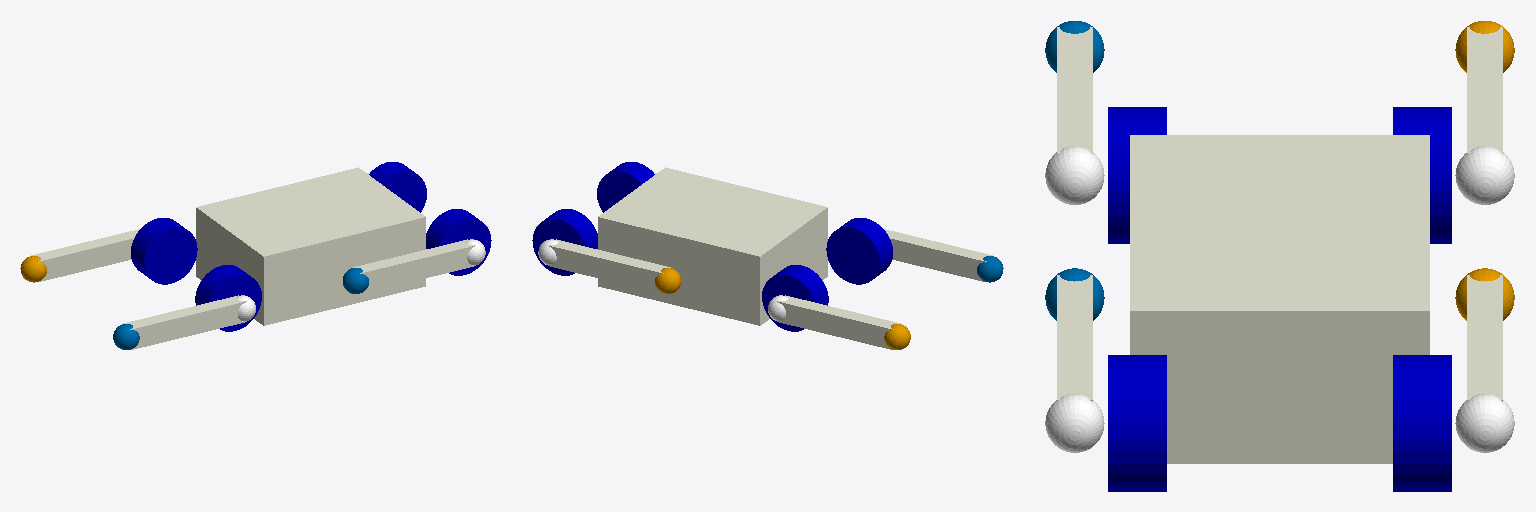
--- Facts derived from the render (not from the file) ---
Views: 3 orthographic renders of the robot side by side, from view 1: azimuth 30°, elevation 25°; view 2: azimuth 150°, elevation 25°; view 3: azimuth 270°, elevation 25°.
Model wr2 with 19 links and 18 joints (12 revolute, 6 fixed), rooted at base, posed all joints at 0.
Visible links, largest first — view 1: trunk, RR_thigh, FR_thigh, RL_hip, RL_thigh, RR_hip, FR_hip, FL_hip; view 2: trunk, RL_thigh, FL_thigh, RR_hip, RR_thigh, RL_hip, FL_hip, FR_hip; view 3: trunk, FR_hip, FL_hip, FR_thigh, FL_thigh, RR_thigh, RL_thigh, RR_hip, RL_hip, FR_foot, FL_foot, RR_foot (+1 smaller).
Boxes of the visible links, x1=… form: trunk: x1=196, y1=167, x2=425, y2=325; RR_thigh: x1=113, y1=295, x2=246, y2=349; FR_thigh: x1=343, y1=239, x2=475, y2=293; RL_hip: x1=131, y1=218, x2=197, y2=284; RL_thigh: x1=20, y1=229, x2=139, y2=282; RR_hip: x1=195, y1=265, x2=261, y2=331; FR_hip: x1=426, y1=209, x2=491, y2=275; FL_hip: x1=369, y1=162, x2=426, y2=212; trunk: x1=598, y1=167, x2=827, y2=325; RL_thigh: x1=777, y1=295, x2=910, y2=349; FL_thigh: x1=548, y1=239, x2=680, y2=293; RR_hip: x1=826, y1=218, x2=892, y2=284; RR_thigh: x1=884, y1=229, x2=1003, y2=282; RL_hip: x1=762, y1=265, x2=828, y2=331; FL_hip: x1=532, y1=209, x2=597, y2=275; FR_hip: x1=597, y1=162, x2=654, y2=212; trunk: x1=1130, y1=135, x2=1429, y2=463; FR_hip: x1=1108, y1=355, x2=1166, y2=491; FL_hip: x1=1393, y1=355, x2=1451, y2=491; FR_thigh: x1=1045, y1=268, x2=1104, y2=401; FL_thigh: x1=1455, y1=268, x2=1514, y2=401; RR_thigh: x1=1045, y1=21, x2=1104, y2=153; RL_thigh: x1=1455, y1=21, x2=1514, y2=153; RR_hip: x1=1108, y1=107, x2=1166, y2=243; RL_hip: x1=1393, y1=107, x2=1451, y2=243; FR_foot: x1=1045, y1=394, x2=1104, y2=452; FL_foot: x1=1455, y1=394, x2=1514, y2=452; RR_foot: x1=1045, y1=146, x2=1104, y2=204.
Size in the robot's own frame: 0.661 by 0.3164 by 0.114 metres.
Geometry: primitives only (box / cylinder / sphere), no mesh files.

robot.urdf — wr2:
<?xml version="1.0" encoding="utf-8"?>
<!-- =================================================================================== -->
<!-- |    This document was autogenerated by xacro from xacro/robot.xacro              | -->
<!-- |    EDITING THIS FILE BY HAND IS NOT RECOMMENDED                                 | -->
<!-- =================================================================================== -->
<robot name="wr2">
  <material name="black">
    <color rgba="0.0 0.0 0.0 1.0"/>
  </material>
  <material name="blue">
    <color rgba="0.0 0.0 0.8 1.0"/>
  </material>
  <material name="green">
    <color rgba="0.0 0.8 0.0 1.0"/>
  </material>
  <material name="grey">
    <color rgba="0.2 0.2 0.2 1.0"/>
  </material>
  <material name="silver">
    <color rgba="0.913725490196 0.913725490196 0.847058823529 1.0"/>
  </material>
  <material name="orange">
    <color rgba="1.0 0.423529411765 0.0392156862745 1.0"/>
  </material>
  <material name="brown">
    <color rgba="0.870588235294 0.811764705882 0.764705882353 1.0"/>
  </material>
  <material name="red">
    <color rgba="0.8 0.0 0.0 1.0"/>
  </material>
  <material name="white">
    <color rgba="1.0 1.0 1.0 1.0"/>
  </material>
 
  <link name="base">
    <visual>
      <origin rpy="0 0 0" xyz="0 0 0"/>
      <geometry>
        <box size="0.001 0.001 0.001"/>
      </geometry>
    </visual>
  </link>
  <joint name="floating_base" type="fixed">
    <origin rpy="0 0 0" xyz="0 0 0"/>
    <parent link="base"/>
    <child link="trunk"/>
  </joint>
  <link name="trunk">
    <visual name="body_visual">
      <origin rpy="0 0 0" xyz="0 0 0"/>
      <geometry>
        <!-- <mesh filename="meshes/base_link.STL" scale="1 1 1"/> -->
        <box size="0.28 0.202 0.114"/>
      </geometry>
      <material name="silver"/>
    </visual>
    <collision name="body_collision">
      <origin rpy="0 0 0" xyz="0 0 0"/>
      <geometry>
        <!-- <mesh filename="meshes/base_link.STL" scale="1 1 1"/> -->
        <box size="0.28 0.202 0.114"/>
      </geometry>
    </collision>
    <inertial>
      <origin rpy="0 0 0" xyz="0.00067578 -0.00016652 -0.00017278"/>
      <mass value="4.9532"/>
      <inertia ixx="0.0097737" ixy="1.6081e-06" ixz="6.1042e-06" iyy="0.011213" iyz="2.3576e-05" izz="0.016784"/>
    </inertial>
  </link>
 
  <!-- <link name="base">
    <visual>
      <origin rpy="0 0 0" xyz="0 0 0"/>
      <geometry>
        <box size="0.001 0.001 0.001"/>
      </geometry>
    </visual>
    <inertial>
      <origin rpy="0 0 0" xyz="0.00067578 -0.00016652 -0.00017278"/>
      <mass value="4.9532"/>
      <inertia ixx="0.0097737" ixy="1.6081e-06" ixz="6.1042e-06" iyy="0.011213" iyz="2.3576e-05" izz="0.016784"/>
    </inertial>
  </link>
  <joint name="floating_base" type="fixed">
    <origin rpy="0 0 0" xyz="0 0 0"/>
    <parent link="base"/>
    <child link="trunk"/>
  </joint>
  <link name="trunk">
    <visual name="body_visual">
      <origin rpy="0 0 0" xyz="0 0 0"/>
      <geometry>
        <mesh filename="meshes/base_link.STL" scale="1 1 1"/>
      </geometry>
      <material name="silver"/>
      <origin rpy="0 0 0" xyz="0 0 0"/>
      <geometry>
        <box size="0.28 0.202 0.114"/>
      </geometry>
    </visual>
    <collision name="body_collision">
      <origin rpy="0 0 0" xyz="0 0 0"/>
      <geometry>
        <box size="0.28 0.202 0.114"/>
      </geometry>
    </collision>
  </link> -->
  <joint name="imu_joint" type="fixed">
    <parent link="trunk"/>
    <child link="imu_link"/>
    <origin rpy="0 0 0" xyz="0 0 0"/>
  </joint>
  <link name="imu_link">
    <inertial>
      <mass value="0.001"/>
      <origin rpy="0 0 0" xyz="0 0 0"/>
      <inertia ixx="0.0001" ixy="0" ixz="0" iyy="0.0001" iyz="0" izz="0.0001"/>
    </inertial>
    <visual>
      <origin rpy="0 0 0" xyz="0 0 0"/>
      <geometry>
        <box size="0.001 0.001 0.001"/>
      </geometry>
      <material name="red"/>
    </visual>
    <collision>
      <origin rpy="0 0 0" xyz="0 0 0"/>
      <geometry>
        <box size=".001 .001 .001"/>
      </geometry>
    </collision>
  </link>

  <joint name="FR_hip_joint" type="revolute">
    <origin rpy="0 0 0" xyz="0.1975 -0.05 0"/>
    <parent link="trunk"/>
    <child link="FR_hip"/>
    <axis xyz="1 0 0"/>
    <dynamics damping="0" friction="0"/>
    <limit effort="33.5" lower="-0.785398163397" upper="0.785398163397" velocity="21"/>
  </joint>
  <!-- <link name="FR_hip">
      <inertial>
          <mass value="0.54"/>
          <origin xyz="0.0 0.036 0."/>
          <inertia ixx="0.000381" ixy="0.000058" ixz="0.00000045" 
              iyy="0.000560" iyz="0.00000095" izz="0.000444"/>
      </inertial>
      <visual>
          <geometry>
              <mesh filename="meshes/mini_abad.obj"/>
          </geometry>
          <origin rpy="3.141592 0.0 1.5708" xyz="-0.055 0.0 0.0"/>
      </visual>
      <collision>
          <geometry>
              <mesh filename="meshes/mini_abad.obj"/>
          </geometry>
          <origin rpy="3.141592 0 1.5708" xyz="-0.055 0 0"/>
      </collision>
  </link> -->

  <!-- <link name="FR_hip">
    <visual>
      <origin rpy="1.57079632679 0 0" xyz="0 -0.045 0"/>
      <geometry>
        <cylinder length="0.04" radius="0.046"/>
      </geometry>
      <material name="silver"/>
    </visual>
    <collision>
      <origin rpy="1.57079632679 0 0" xyz="0 -0.045 0"/>
      <geometry>
        <cylinder length="0.04" radius="0.046"/>
      </geometry>
    </collision>
    <inertial>
      <origin rpy="0 0 0" xyz="-0.00541 0.00074 6e-06"/>
      <mass value="0.510299"/>
      <inertia ixx="0.00030528937" ixy="7.788013e-06" ixz="2.2016e-07" iyy="0.000590894859" iyz="1.7175e-08" izz="0.000396594572"/>
    </inertial>
  </link> -->

  <link name="FR_hip">
    <visual name="hip2_visual">
      <!-- <origin rpy="3.14159265359 0 0" xyz="0 0 0"/>
      <geometry>
        <mesh filename="meshes/hip1_Link.STL" scale="1 1 1"/>
      </geometry> -->
      <origin rpy="1.57079632679 0 0" xyz="0 -0.046 0"/>
      <geometry>
        <cylinder length="0.04" radius="0.046"/>
      </geometry>
      <material name="blue"/>
    </visual>
    <collision name="hip2_collision">
      <origin rpy="1.57079632679 0 0" xyz="0 -0.046 0"/>
      <geometry>
        <cylinder length="0.04" radius="0.046"/>
      </geometry>
    </collision>
    <inertial>
      <mass value="0.54"/>
      <origin xyz="0.0 0.036 0."/>
      <inertia ixx="0.000381" ixy="0.000058" ixz="0.00000045" 
          iyy="0.000560" iyz="0.00000095" izz="0.000444"/>
      <origin rpy="0 0 0" xyz="-0.0032616 -0.0049715 0.00038471"/>
      <mass value="0.74362"/>
      <inertia ixx="0.00045939" ixy="1.5543e-05" ixz="6.1403e-07" iyy="0.00075207" iyz="-8.2076e-07" izz="0.00049182"/>
    </inertial>
  </link>
  <joint name="FR_thigh_joint" type="revolute">
    <origin rpy="0 1.57079632679 0" xyz="0 -0.0882 0"/>
    <parent link="FR_hip"/>
    <child link="FR_thigh"/>
    <axis xyz="0 -1 0"/>
    <dynamics damping="0" friction="0"/>
    <limit effort="33.5" lower="-6.28318530718" upper="6.28318530718" velocity="21"/>
  </joint>
  <link name="FR_thigh">
    <visual name="upper2_visual">
      <!-- <origin rpy="0 0 0" xyz="0 0 0"/>
      <geometry>
        <mesh filename="meshes/upper0_Link.STL" scale="1 1 1"/>
      </geometry> -->
      <origin rpy="0 1.57079632679 0" xyz="0 0 -0.1"/>
      <geometry>
        <box size="0.2 0.0245 0.034"/>
      </geometry>
      <material name="silver"/>
    </visual>
    <collision name="upper2_collision">
      <origin rpy="0 1.57079632679 0" xyz="0 0 -0.1"/>
      <geometry>
        <box size="0.2 0.0245 0.034"/>
      </geometry>
    </collision>
    <visual>
        <origin xyz="0 0 -0.2"/>
        <geometry>
            <sphere radius="0.02"/>
        </geometry>
    </visual>
    <collision>
        <origin xyz="0 0 -0.2"/>
        <geometry>
            <sphere radius="0.02"/>
        </geometry>
    </collision>
    <inertial>
      <origin rpy="0 0 0" xyz="-0.0029302 0.022321 -0.020612"/>
      <mass value="0.88958"/>
      <inertia ixx="0.0016427" ixy="-1.0138e-06" ixz="-8.5809e-05" iyy="0.0019549" iyz="-1.1651e-06" izz="0.00049228"/>
    </inertial>
  </link>
  <joint name="FR_calf_joint" type="revolute">
    <origin rpy="0 -3.14159265359 0" xyz="0 0 -0.2"/>
    <parent link="FR_thigh"/>
    <child link="FR_calf"/>
    <axis xyz="0 1 0"/>
    <dynamics damping="0" friction="0"/>
    <limit effort="33.5" lower="-6.28318530718" upper="6.28318530718" velocity="21"/>
  </joint>
  <link name="FR_calf">
    <visual name="lower2_visual">
      <!-- <origin rpy="0 0 0" xyz="0 0 0"/>
      <geometry>
        <mesh filename="meshes/lower1_Link.STL" scale="1 1 1"/>
      </geometry> -->
      <origin rpy="0 1.57079632679 0" xyz="0 0 -0.1"/>
      <geometry>
        <box size="0.2 0.016 0.016"/>
      </geometry>
      <material name="blue"/>
    </visual>
    <collision name="lower2_collision">
      <origin rpy="0 1.57079632679 0" xyz="0 0 -0.1"/>
      <geometry>
        <box size="0.2 0.016 0.016"/>
      </geometry>
    </collision>
    <!-- <visual>
        <origin xyz="0 0 -0.2"/>
        <geometry>
            <sphere radius="0.02"/>
        </geometry>
    </visual>
    <collision>
        <origin xyz="0 0 -0.2"/>
        <geometry>
            <sphere radius="0.02"/>
        </geometry>
    </collision> -->
    <inertial>
      <origin rpy="0 0 0" xyz="0.0065828 -3.477e-05 -0.059038"/>
      <mass value="0.1193"/>
      <inertia ixx="0.00033774" ixy="-1.6102e-10" ixz="4.2063e-05" iyy="0.00034623" iyz="-3.8747e-09" izz="1.4561e-05"/>
    </inertial>
  </link>

  <joint name="FR_foot_fixed" type="fixed" dont_collapse="true">
    <origin rpy="0 0 0" xyz="0 0 -0.2"/>
    <parent link="FR_calf"/>
    <child link="FR_foot"/>
  </joint>
  <link name="FR_foot">
    <visual>
      <origin rpy="0 0 0" xyz="0 0 0"/>
      <geometry>
        <sphere radius="0.02"/>
      </geometry>
      <material name="white"/>
    </visual>
    <collision>
      <origin rpy="0 0 0" xyz="0 0 0"/>
      <geometry>
        <sphere radius="0.02"/>
      </geometry>
    </collision>
    <inertial>
      <mass value="0.06"/>
      <inertia ixx="9.6e-06" ixy="0.0" ixz="0.0" iyy="9.6e-06" iyz="0.0" izz="9.6e-06"/>
    </inertial>
  </link>


  <joint name="FL_hip_joint" type="revolute">
    <origin rpy="0 0 0" xyz="0.1975 0.05 0"/>
    <parent link="trunk"/>
    <child link="FL_hip"/>
    <axis xyz="1 0 0"/>
    <dynamics damping="0" friction="0"/>
    <limit effort="33.5" lower="-0.785398163397" upper="0.785398163397" velocity="21"/>
  </joint>
  <!-- <link name="FL_hip">
      <inertial>
          <mass value="0.54"/>
          <origin xyz="0.0 0.036 0."/>
          <inertia ixx="0.000381" ixy="0.000058" ixz="0.00000045" 
              iyy="0.000560" iyz="0.00000095" izz="0.000444"/>
      </inertial>
      <visual>
          <geometry>
              <mesh filename="meshes/mini_abad.obj"/>
          </geometry>
          <origin rpy="0. 0. -1.5708" xyz="-0.055 0.0 0.0"/>
      </visual>
      <collision>
          <geometry>
              <mesh filename="meshes/mini_abad.obj"/>
          </geometry>
          <origin rpy="0 0 -1.5708" xyz="-0.055 0 0"/>
      </collision>
  </link> -->
  <link name="FL_hip">
    <visual name="hip0_visual">
      <!-- <origin rpy="0 0 0" xyz="0 0 0"/>
      <geometry>
        <mesh filename="meshes/hip1_Link.STL" scale="1 1 1"/>
      </geometry> -->
      <origin rpy="1.57079632679 0 0" xyz="0 0.046 0"/>
      <geometry>
        <cylinder length="0.04" radius="0.046"/>
      </geometry>
      <material name="blue"/>
    </visual>
    <collision name="hip0_collision">
      <origin rpy="1.57079632679 0 0" xyz="0 0.046 0"/>
      <geometry>
        <cylinder length="0.04" radius="0.046"/>
      </geometry>
    </collision>
    <inertial>
      <origin rpy="0 0 0" xyz="-0.0032616 0.0049715 0.00038471"/>
      <mass value="0.74362"/>
      <inertia ixx="0.00045939" ixy="-1.5543e-05" ixz="6.1403e-07" iyy="0.00075207" iyz="8.2076e-07" izz="0.00049182"/>
    </inertial>
  </link>

  <!-- <link name="FL_hip">
    <visual>
      <origin rpy="1.57079632679 0 0" xyz="0 0.045 0"/>
      <geometry>
        <cylinder length="0.04" radius="0.046"/>
      </geometry>
      <material name="silver"/>
    </visual>
    <collision>
      <origin rpy="1.57079632679 0 0" xyz="0 0.046 0"/>
      <geometry>
        <cylinder length="0.04" radius="0.046"/>
      </geometry>
    </collision>
    <inertial>
      <origin rpy="0 0 0" xyz="-0.00541 -0.00074 6e-06"/>
      <mass value="0.510299"/>
      <inertia ixx="0.00030528937" ixy="-7.788013e-06" ixz="2.2016e-07" iyy="0.000590894859" iyz="-1.7175e-08" izz="0.000396594572"/>
    </inertial>
  </link> -->

  <joint name="FL_thigh_joint" type="revolute">
    <origin rpy="0 1.57079632679 0" xyz="0 0.0882 0"/>
    <parent link="FL_hip"/>
    <child link="FL_thigh"/>
    <axis xyz="0 -1 0"/>
    <dynamics damping="0" friction="0"/>
    <limit effort="33.5" lower="-6.28318530718" upper="6.28318530718" velocity="21"/>
  </joint>
  <link name="FL_thigh">
    <visual name="upper0_visual">
      <!-- <origin rpy="0 0 0" xyz="0 0 0"/>
      <geometry>
        <mesh filename="meshes/upper1_Link.STL" scale="1 1 1"/>
      </geometry> -->
      <origin rpy="0 1.57079632679 0" xyz="0 0 -0.1"/>
      <geometry>
        <box size="0.2 0.0245 0.034"/>
      </geometry>
      <material name="silver"/>
    </visual>
    <collision name="upper0_collision">
      <origin rpy="0 1.57079632679 0" xyz="0 0 -0.1"/>
      <geometry>
        <box size="0.2 0.0245 0.034"/>
      </geometry>
    </collision>
    <visual>
        <origin xyz="0 0 -0.2"/>
        <geometry>
            <sphere radius="0.02"/>
        </geometry>
    </visual>
    <collision>
        <origin xyz="0 0 -0.2"/>
        <geometry>
            <sphere radius="0.02"/>
        </geometry>
    </collision>
    <inertial>
      <origin rpy="0 0 0" xyz="-0.0029302 -0.022321 -0.020612"/>
      <mass value="0.88958"/>
      <inertia ixx="0.0016427" ixy="1.0138e-06" ixz="-8.5809e-05" iyy="0.0019549" iyz="1.1651e-06" izz="0.00049228"/>
    </inertial>
  </link>
  <joint name="FL_calf_joint" type="revolute">
    <origin rpy="0 -3.14159265359 0" xyz="0 0 -0.2"/>
    <parent link="FL_thigh"/>
    <child link="FL_calf"/>
    <axis xyz="0 1 0"/>
    <dynamics damping="0" friction="0"/>
    <limit effort="33.5" lower="-6.28318530718" upper="6.28318530718" velocity="21"/>
  </joint>
  <link name="FL_calf">
    <visual name="lower0_visual">
      <!-- <origin rpy="0 0 0" xyz="0 0 0"/>
      <geometry>
        <mesh filename="meshes/lower1_Link.STL" scale="1 1 1"/>
      </geometry> -->
      <origin rpy="0 1.57079632679 0" xyz="0 0 -0.1"/>
      <geometry>
        <box size="0.2 0.016 0.016"/>
      </geometry>
      <material name="blue"/>
    </visual>
    <collision name="lower0_collision">
      <origin rpy="0 1.57079632679 0" xyz="0 0 -0.1"/>
      <geometry>
        <box size="0.2 0.016 0.016"/>
      </geometry>
    </collision>
    <!-- <visual>
        <origin xyz="0 0 -0.2"/>
        <geometry>
            <sphere radius="0.02"/>
        </geometry>
    </visual>
    <collision>
        <origin xyz="0 0 -0.2"/>
        <geometry>
            <sphere radius="0.02"/>
        </geometry>
    </collision> -->
    <inertial>
      <origin rpy="0 0 0" xyz="0.0065828 -3.477e-05 -0.059038"/>
      <mass value="0.1193"/>
      <inertia ixx="0.00033774" ixy="-1.6102e-10" ixz="4.2063e-05" iyy="0.00034623" iyz="-3.8747e-09" izz="1.4561e-05"/>
    </inertial>
  </link>
  <joint name="FL_foot_fixed" type="fixed" dont_collapse="true">
    <origin rpy="0 0 0" xyz="0 0 -0.2"/>
    <parent link="FL_calf"/>
    <child link="FL_foot"/>
  </joint>
  <link name="FL_foot">
    <visual>
      <origin rpy="0 0 0" xyz="0 0 0"/>
      <geometry>
        <sphere radius="0.02"/>
      </geometry>
      <material name="white"/>
    </visual>
    <collision>
      <origin rpy="0 0 0" xyz="0 0 0"/>
      <geometry>
        <sphere radius="0.02"/>
      </geometry>
    </collision>
    <inertial>
      <mass value="0.06"/>
      <inertia ixx="9.6e-06" ixy="0.0" ixz="0.0" iyy="9.6e-06" iyz="0.0" izz="9.6e-06"/>
    </inertial>
  </link>

  
  <joint name="RR_hip_joint" type="revolute">
    <origin rpy="0 0 0" xyz="-0.1975 -0.05 0"/>
    <parent link="trunk"/>
    <child link="RR_hip"/>
    <axis xyz="1 0 0"/>
    <dynamics damping="0.5" friction="0"/>
    <limit effort="33.5" lower="-0.785398163397" upper="0.785398163397" velocity="21"/>
    <!-- <limit effort="18" lower="-1.6" upper="1.6" velocity="40"/> -->
  </joint>
  <!-- <link name="RR_hip">
      <inertial>
          <mass value="0.54"/>
          <origin xyz="0.0 0.036 0."/>
          <inertia ixx="0.000381" ixy="0.000058" ixz="0.00000045" 
              iyy="0.000560" iyz="0.00000095" izz="0.000444"/>
      </inertial>
      <visual>
          <geometry>
              <mesh filename="meshes/mini_abad.obj"/>
          </geometry>
          <origin rpy="0.0 0.0 1.5708" xyz="0.055 0.0 0.0"/>
      </visual>
      <collision>
          <geometry>
              <mesh filename="meshes/mini_abad.obj"/>
          </geometry>
          <origin rpy="0 0 1.5708" xyz="0.055 0 0"/>
      </collision>
  </link> -->
  <link name="RR_hip">
    <visual name="hip3_visual">
      <!-- <origin rpy="3.14159265359 3.14159265359 0" xyz="0 0 0"/>
      <geometry>
        <mesh filename="meshes/hip1_Link.STL" scale="1 1 1"/>
      </geometry> -->
      <origin rpy="1.57079632679 0 0" xyz="0 -0.046 0"/>
      <geometry>
        <cylinder length="0.04" radius="0.046"/>
      </geometry>
      <material name="blue"/>
    </visual>
    <collision name="hip3_collision">
      <origin rpy="1.57079632679 0 0" xyz="0 -0.046 0"/>
      <geometry>
        <cylinder length="0.04" radius="0.046"/>
      </geometry>
    </collision>
    <inertial>
      <origin rpy="0 0 0" xyz="0.0032616 -0.0049715 0.00038471"/>
      <mass value="0.74362"/>
      <inertia ixx="0.00045939" ixy="-1.5543e-05" ixz="-6.1403e-07" iyy="0.00075207" iyz="-8.2076e-07" izz="0.00049182"/>
    </inertial>
  </link>

  <!-- <link name="RR_hip">
    <visual>
      <origin rpy="1.57079632679 0 0" xyz="0 -0.045 0"/>
      <geometry>
        <cylinder length="0.04" radius="0.046"/>
      </geometry>
      <material name="silver"/>
    </visual>
    <collision>
      <origin rpy="1.57079632679 0 0" xyz="0 -0.045 0"/>
      <geometry>
        <cylinder length="0.04" radius="0.046"/>
      </geometry>
    </collision>
    <inertial>
      <origin rpy="0 0 0" xyz="0.00541 0.00074 6e-06"/>
      <mass value="0.510299"/>
      <inertia ixx="0.00030528937" ixy="-7.788013e-06" ixz="-2.2016e-07" iyy="0.000590894859" iyz="1.7175e-08" izz="0.000396594572"/>
    </inertial>
  </link> -->

  <joint name="RR_thigh_joint" type="revolute">
    <origin rpy="0 1.57079632679 0" xyz="0 -0.0882 0"/>
    <parent link="RR_hip"/>
    <child link="RR_thigh"/>
    <axis xyz="0 -1 0"/>
    <dynamics damping="0" friction="0"/>
    <limit effort="33.5" lower="-6.28318530718" upper="6.28318530718" velocity="21"/>
  </joint>
  <link name="RR_thigh">
    <visual name="upper3_visual">
      <!-- <origin rpy="0 0 0" xyz="0 0 0"/>
      <geometry>
        <mesh filename="meshes/upper0_Link.STL" scale="1 1 1"/>
      </geometry> -->
      <origin rpy="0 1.57079632679 0" xyz="0 0 -0.1"/>
      <geometry>
        <box size="0.2 0.0245 0.034"/>
      </geometry>
      <material name="silver"/>
    </visual>
    <collision name="upper3_collision">
      <origin rpy="0 1.57079632679 0" xyz="0 0 -0.1"/>
      <geometry>
        <box size="0.2 0.0245 0.034"/>
      </geometry>
    </collision>
    <visual>
        <origin xyz="0 0 -0.2"/>
        <geometry>
            <sphere radius="0.02"/>
        </geometry>
    </visual>
    <collision>
        <origin xyz="0 0 -0.2"/>
        <geometry>
            <sphere radius="0.02"/>
        </geometry>
    </collision>
    <inertial>
      <origin rpy="0 0 0" xyz="-0.0029302 0.022321 -0.020612"/>
      <mass value="0.88958"/>
      <inertia ixx="0.0016427" ixy="-1.0138e-06" ixz="-8.5809e-05" iyy="0.0019549" iyz="-1.1651e-06" izz="0.00049228"/>
    </inertial>
  </link>
  <joint name="RR_calf_joint" type="revolute">
    <origin rpy="0 -3.14159265359 0" xyz="0 0 -0.2"/>
    <parent link="RR_thigh"/>
    <child link="RR_calf"/>
    <axis xyz="0 1 0"/>
    <dynamics damping="0" friction="0"/>
    <limit effort="33.5" lower="-6.28318530718" upper="6.28318530718" velocity="21"/>
  </joint>
  <link name="RR_calf">
    <visual name="lower3_visual">
      <!-- <origin rpy="0 0 0" xyz="0 0 0"/>
      <geometry>
        <mesh filename="meshes/lower1_Link.STL" scale="1 1 1"/>
      </geometry> -->
      <origin rpy="0 1.57079632679 0" xyz="0 0 -0.1"/>
      <geometry>
        <box size="0.2 0.016 0.016"/>
      </geometry>
      
      <material name="blue"/>
    </visual>
    <!-- <visual>
      <origin xyz="0 0 -0.2"/>
      <geometry>
          <sphere radius="0.02"/>
      </geometry>
    </visual> -->
    <collision name="lower3_collision">
      <origin rpy="0 1.57079632679 0" xyz="0 0 -0.1"/>
      <geometry>
        <box size="0.2 0.016 0.016"/>
      </geometry>
    </collision>
    <!-- <collision>
        <origin xyz="0 0 -0.2"/>
        <geometry>
            <sphere radius="0.02"/>
        </geometry>
    </collision> -->
    <inertial>
      <origin rpy="0 0 0" xyz="0.0065828 -3.477e-05 -0.059038"/>
      <mass value="0.1193"/>
      <inertia ixx="0.00033774" ixy="-1.6102e-10" ixz="4.2063e-05" iyy="0.00034623" iyz="-3.8747e-09" izz="1.4561e-05"/>
    </inertial>
  </link>
  <joint name="RR_foot_fixed" type="fixed" dont_collapse="true">
    <origin rpy="0 0 0" xyz="0 0 -0.2"/>
    <parent link="RR_calf"/>
    <child link="RR_foot"/>
  </joint>
  <link name="RR_foot">
    <visual>
      <origin rpy="0 0 0" xyz="0 0 0"/>
      <geometry>
        <sphere radius="0.02"/>
      </geometry>
      <material name="white"/>
    </visual>
    <collision>
      <origin rpy="0 0 0" xyz="0 0 0"/>
      <geometry>
        <sphere radius="0.02"/>
      </geometry>
    </collision>
    <inertial>
      <mass value="0.06"/>
      <inertia ixx="9.6e-06" ixy="0.0" ixz="0.0" iyy="9.6e-06" iyz="0.0" izz="9.6e-06"/>
    </inertial>
  </link>

  <joint name="RL_hip_joint" type="revolute">
    <origin rpy="0 0 0" xyz="-0.1975 0.05 0"/>
    <parent link="trunk"/>
    <child link="RL_hip"/>
    <axis xyz="1 0 0"/>
    <dynamics damping="0" friction="0"/>
    <limit effort="33.5" lower="-0.785398163397" upper="0.785398163397" velocity="21"/>
  </joint>
  <!-- <link name="RL_hip">
      <inertial>
          <mass value="0.54"/>
          <origin xyz="0.0 0.036 0."/>
          <inertia ixx="0.000381" ixy="0.000058" ixz="0.00000045" 
              iyy="0.000560" iyz="0.00000095" izz="0.000444"/>
      </inertial>
      <visual>
          <geometry>
              <mesh filename="meshes/mini_abad.obj"/>
          </geometry>
          <origin rpy="3.141592 0.0 -1.5708" xyz="0.055 0.0 0.0"/>
      </visual>
      <collision>
          <geometry>
              <mesh filename="meshes/mini_abad.obj"/>
          </geometry>
          <origin rpy="3.141592 0 -1.5708" xyz="0.055 0 0"/>
      </collision>
  </link> -->
  <link name="RL_hip">
    <visual name="hip1_visual">
      <!-- <origin rpy="0 3.14159265359 0" xyz="0 0 0"/>
      <geometry>
        <mesh filename="meshes/hip1_Link.STL" scale="1 1 1"/>
      </geometry> -->
      <origin rpy="1.57079632679 0 0" xyz="0 0.046 0"/>
      <geometry>
        <cylinder length="0.04" radius="0.046"/>
      </geometry>
      <material name="blue"/>
    </visual>
    <collision name="hip1_collision">
      <origin rpy="1.57079632679 0 0" xyz="0 0.046 0"/>
      <geometry>
        <cylinder length="0.04" radius="0.046"/>
      </geometry>
    </collision>
    <inertial>
      <origin rpy="0 0 0" xyz="0.0032616 0.0049715 0.00038471"/>
      <mass value="0.74362"/>
      <inertia ixx="0.00045939" ixy="1.5543e-05" ixz="-6.1403e-07" iyy="0.00075207" iyz="8.2076e-07" izz="0.00049182"/>
    </inertial>
  </link>

  <!-- <link name="RL_hip">
    <visual>
      <origin rpy="1.57079632679 0 0" xyz="0 0.045 0"/>
      <geometry>
        <cylinder length="0.04" radius="0.046"/>
      </geometry>
      <material name="silver"/>
    </visual>
    <collision>
      <origin rpy="1.57079632679 0 0" xyz="0 0.045 0"/>
      <geometry>
        <cylinder length="0.04" radius="0.046"/>
      </geometry>
    </collision>
    <inertial>
      <origin rpy="0 0 0" xyz="0.00541 -0.00074 6e-06"/>
      <mass value="0.510299"/>
      <inertia ixx="0.00030528937" ixy="7.788013e-06" ixz="-2.2016e-07" iyy="0.000590894859" iyz="-1.7175e-08" izz="0.000396594572"/>
    </inertial>
  </link> -->


  <joint name="RL_thigh_joint" type="revolute">
    <origin rpy="0 1.57079632679 0" xyz="0 0.0882 0"/>
    <parent link="RL_hip"/>
    <child link="RL_thigh"/>
    <axis xyz="0 -1 0"/>
    <dynamics damping="0" friction="0"/>
    <limit effort="33.5" lower="-6.28318530718" upper="6.28318530718" velocity="21"/>
  </joint>
  <link name="RL_thigh">
    <visual name="upper1_visual">
      <!-- <origin rpy="0 0 0" xyz="0 0 0"/>
      <geometry>
        <mesh filename="meshes/upper1_Link.STL" scale="1 1 1"/>
      </geometry> -->
      <origin rpy="0 1.57079632679 0" xyz="0 0 -0.1"/>
      <geometry>
        <box size="0.2 0.0245 0.034"/>
      </geometry>
      <material name="silver"/>
    </visual>
    <collision name="upper1_collision">
      <origin rpy="0 1.57079632679 0" xyz="0 0 -0.1"/>
      <geometry>
        <box size="0.2 0.0245 0.034"/>
      </geometry>
    </collision>
    <visual>
        <origin xyz="0 0 -0.2"/>
        <geometry>
            <sphere radius="0.02"/>
        </geometry>
    </visual>
    <collision>
        <origin xyz="0 0 -0.2"/>
        <geometry>
            <sphere radius="0.02"/>
        </geometry>
    </collision>
    <inertial>
      <origin rpy="0 0 0" xyz="-0.0029302 -0.022321 -0.020612"/>
      <mass value="0.88958"/>
      <inertia ixx="0.0016427" ixy="1.0138e-06" ixz="-8.5809e-05" iyy="0.0019549" iyz="1.1651e-06" izz="0.00049228"/>
    </inertial>
  </link>
  <joint name="RL_calf_joint" type="revolute">
    <origin rpy="0 -3.14159265359 0" xyz="0 0 -0.2"/>
    <parent link="RL_thigh"/>
    <child link="RL_calf"/>
    <axis xyz="0 1 0"/>
    <dynamics damping="0" friction="0"/>
    <limit effort="33.5" lower="-6.28318530718" upper="6.28318530718" velocity="21"/>
  </joint>
  <link name="RL_calf">
    <visual name="lower1_visual">
      <!-- <origin rpy="0 0 0" xyz="0 0 0"/>
      <geometry>
        <mesh filename="meshes/lower1_Link.STL" scale="1 1 1"/>
      </geometry> -->
      <origin rpy="0 1.57079632679 0" xyz="0 0 -0.1"/>
      <geometry>
        <box size="0.2 0.016 0.016"/>
      </geometry>
      <material name="blue"/>
    </visual>
    <!-- <visual>
        <origin xyz="0 0 -0.2"/>
        <geometry>
            <sphere radius="0.02"/>
        </geometry>
    </visual> -->
    <collision name="lower1_collision">
      <origin rpy="0 1.57079632679 0" xyz="0 0 -0.1"/>
      <geometry>
        <box size="0.2 0.016 0.016"/>
      </geometry>
    </collision>
    <!-- <collision>
        <origin xyz="0 0 -0.2"/>
        <geometry>
            <sphere radius="0.02"/>
        </geometry>
    </collision> -->
    <inertial>
      <origin rpy="0 0 0" xyz="0.0065828 -3.477e-05 -0.059038"/>
      <mass value="0.1193"/>
      <inertia ixx="0.00033774" ixy="-1.6102e-10" ixz="4.2063e-05" iyy="0.00034623" iyz="-3.8747e-09" izz="1.4561e-05"/>
    </inertial>
  </link>
  <joint name="RL_foot_fixed" type="fixed" dont_collapse="true">
    <origin rpy="0 0 0" xyz="0 0 -0.2"/>
    <parent link="RL_calf"/>
    <child link="RL_foot"/>
  </joint>
  <link name="RL_foot">
    <visual>
      <origin rpy="0 0 0" xyz="0 0 0"/>
      <geometry>
        <sphere radius="0.02"/>
      </geometry>
      <material name="white"/>
    </visual>
    <collision>
      <origin rpy="0 0 0" xyz="0 0 0"/>
      <geometry>
        <sphere radius="0.02"/>
      </geometry>
    </collision>
    <inertial>
      <mass value="0.06"/>
      <inertia ixx="9.6e-06" ixy="0.0" ixz="0.0" iyy="9.6e-06" iyz="0.0" izz="9.6e-06"/>
    </inertial>
  </link>
  
</robot>
